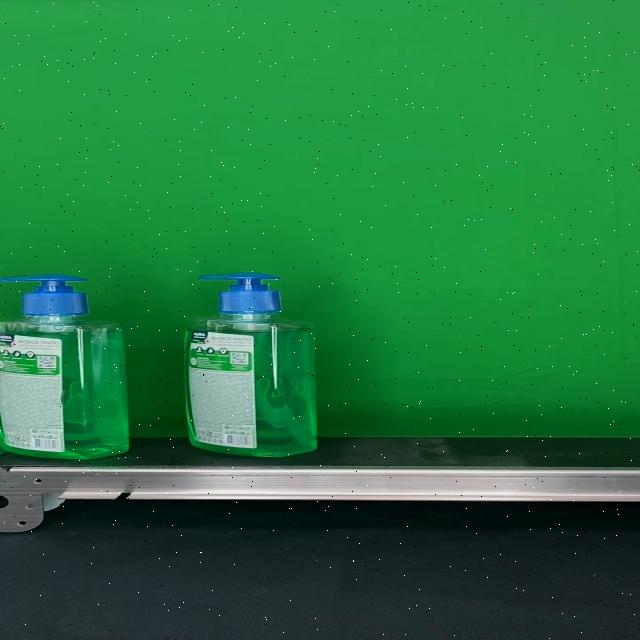Bottle: (183, 273, 318, 457), (0, 273, 129, 459)
Cap: (1, 274, 87, 316), (198, 273, 280, 315)
